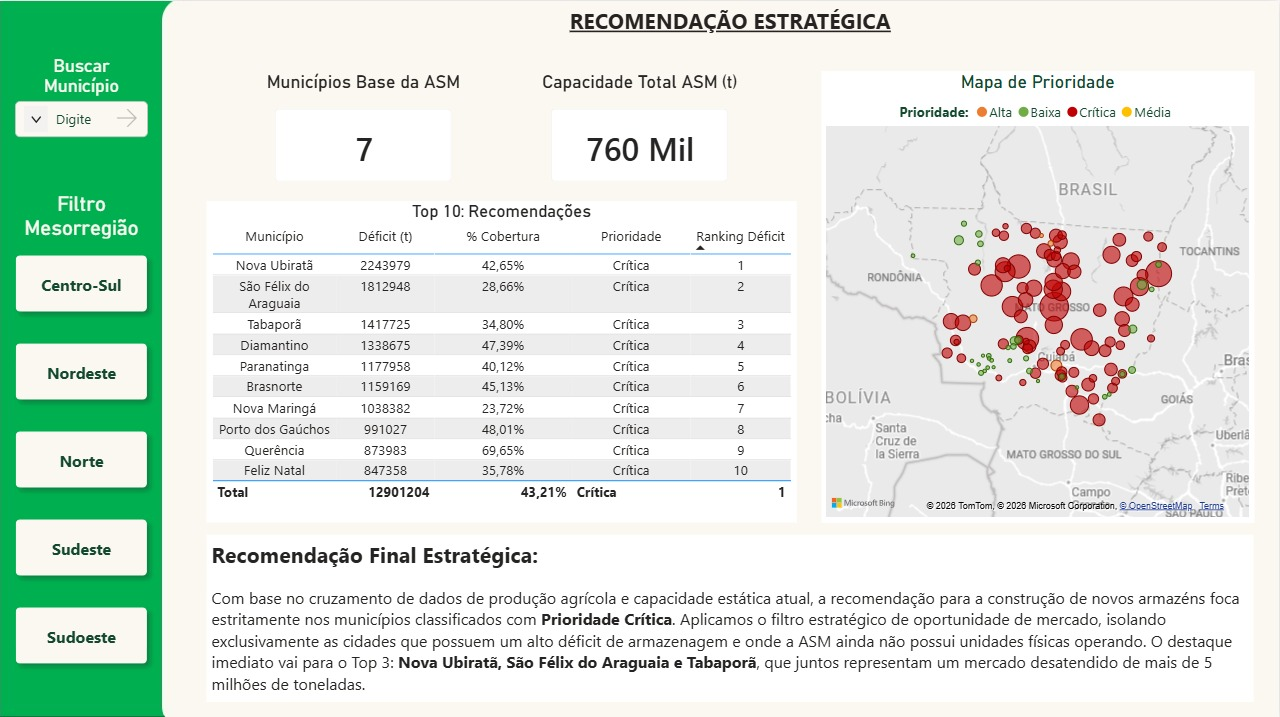

What the dashboard file says about the page in this screenshot:
{"tool":"powerbi","page":{"name":"Recomendação Estratégica","canvas":[1280,720],"ordinal":3},"visuals":[{"type":"cardVisual","title":"Capacidade Total ASM (t)","fields":{"Data":["Medidas.Capacidade ASM (t)"]},"box":[535,70,211.2,128.8],"z":0},{"type":"cardVisual","title":"Municípios Base da ASM","fields":{"Data":["Medidas.Municípios ASM Presente"]},"box":[258.8,70,211.2,128.8],"z":1000},{"type":"map","title":"Mapa de Prioridade","fields":{"Category":["Dim_Municipio.Pais Hierarquia.Pais","Dim_Municipio.Pais Hierarquia.UF","Dim_Municipio.Pais Hierarquia.Municipio"],"Size":["Medidas.Déficit Positivo (t)"],"Series":["Dim_Municipio.Prioridade (Coluna)"]},"box":[822.5,70,432.5,451.2],"z":2000},{"type":"textbox","box":[207.5,533.8,1047.5,167.5],"z":4000},{"type":"tableEx","title":"Top 10: Recomendações","fields":{"Values":["Dim_Municipio.Municipio","Medidas.Déficit Positivo (t)","Medidas.% Cobertura","Medidas.Prioridade","Medidas.Ranking Déficit"]},"box":[207.5,200,590,321.2],"z":7000},{"type":"textbox","box":[530,0,402.5,55],"z":8000},{"type":"advancedSlicerVisual","title":"Filtro Mesorregião","fields":{"Values":["Dim_Municipio.Mesorregiao"]},"box":[0,191.2,165,490],"z":8001},{"type":"textSlicer","title":"Buscar Município","fields":{"Values":["Dim_Municipio.Municipio"]},"box":[11.2,53.8,142.5,87.5],"z":8002}]}

Visuals, with their boxes in screenshot pixels (x1, y1, x2, y2), scaled from the page's 1280x720 canvas onto the 1280x717 screenshot:
"Capacidade Total ASM (t)" cardVisual: 535/70/746/198
"Municípios Base da ASM" cardVisual: 259/70/470/198
"Mapa de Prioridade" map: 822/70/1255/519
textbox: 208/532/1255/698
"Top 10: Recomendações" tableEx: 208/199/798/519
textbox: 530/0/932/55
"Filtro Mesorregião" advancedSlicerVisual: 0/190/165/678
"Buscar Município" textSlicer: 11/54/154/141
